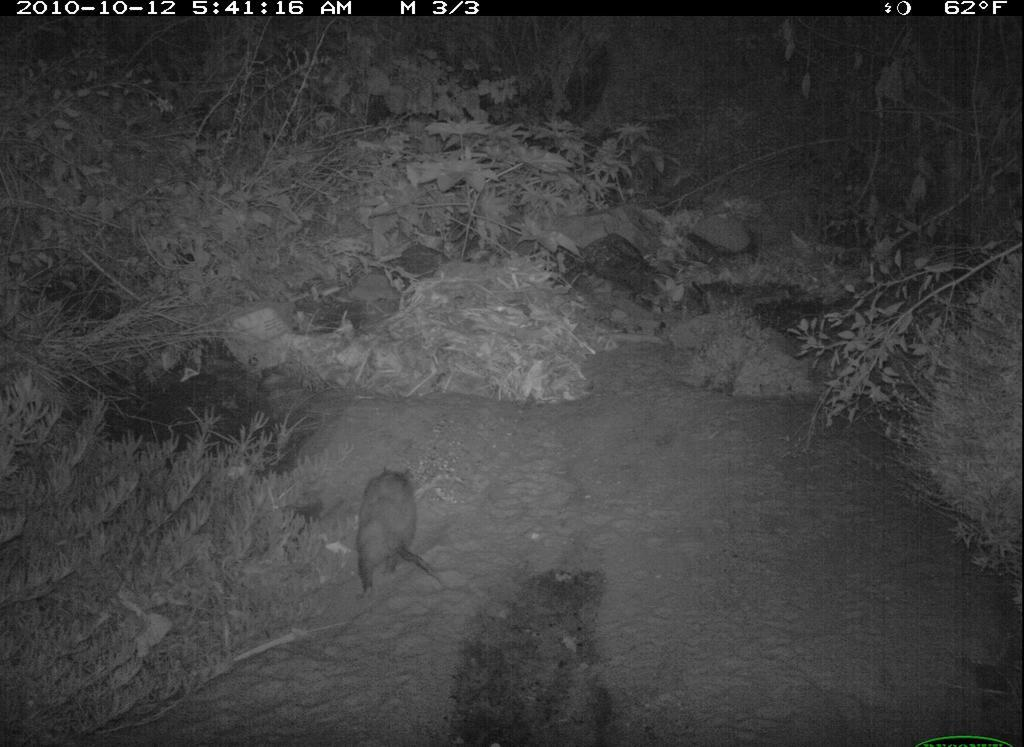opossum: (354, 464, 450, 602)
